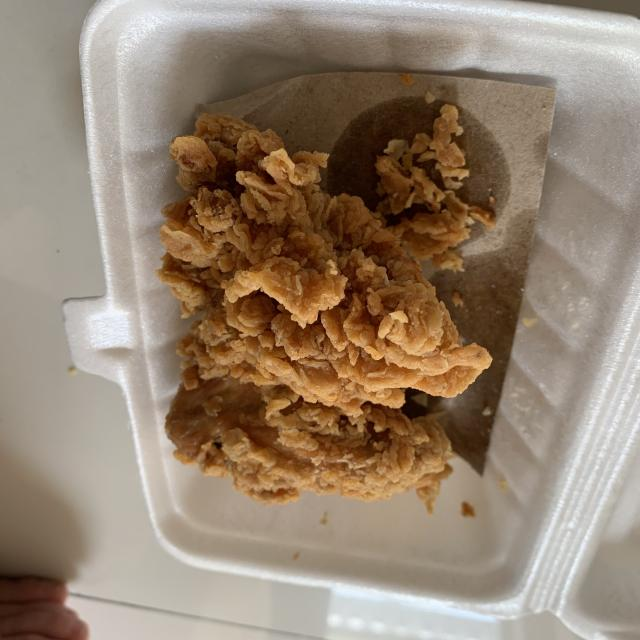Wet Waste: (162, 109, 492, 502)
